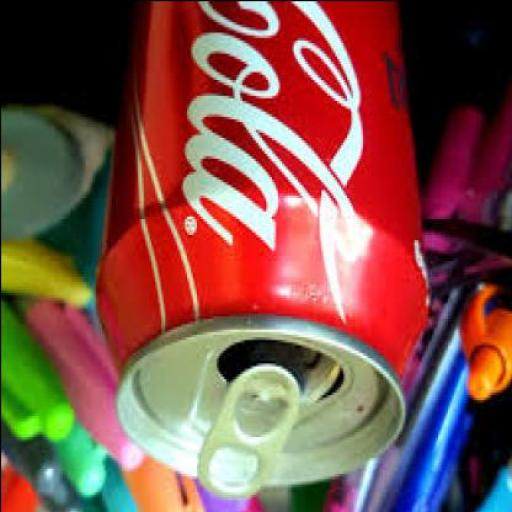metal: (96, 3, 432, 502)
